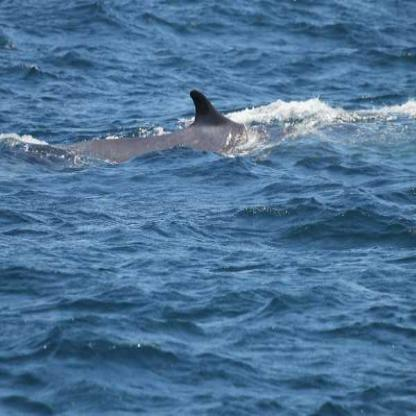dolphin-whale: (68, 84, 253, 163)
